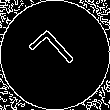L_SE: (27, 26, 83, 84)
